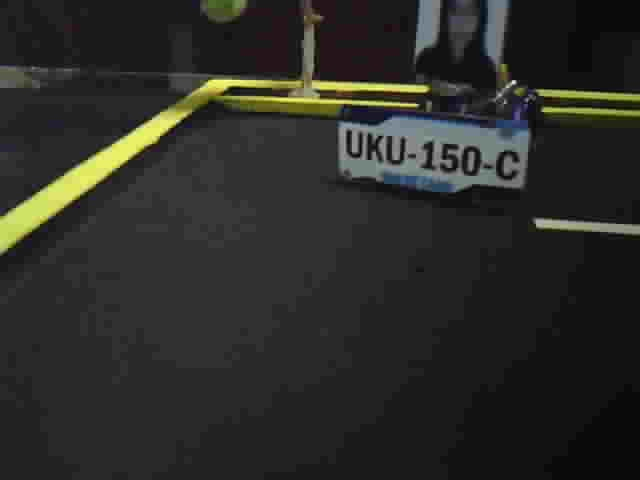PLACA: (334, 104, 533, 210)
ROSTRO: (416, 1, 499, 81)
